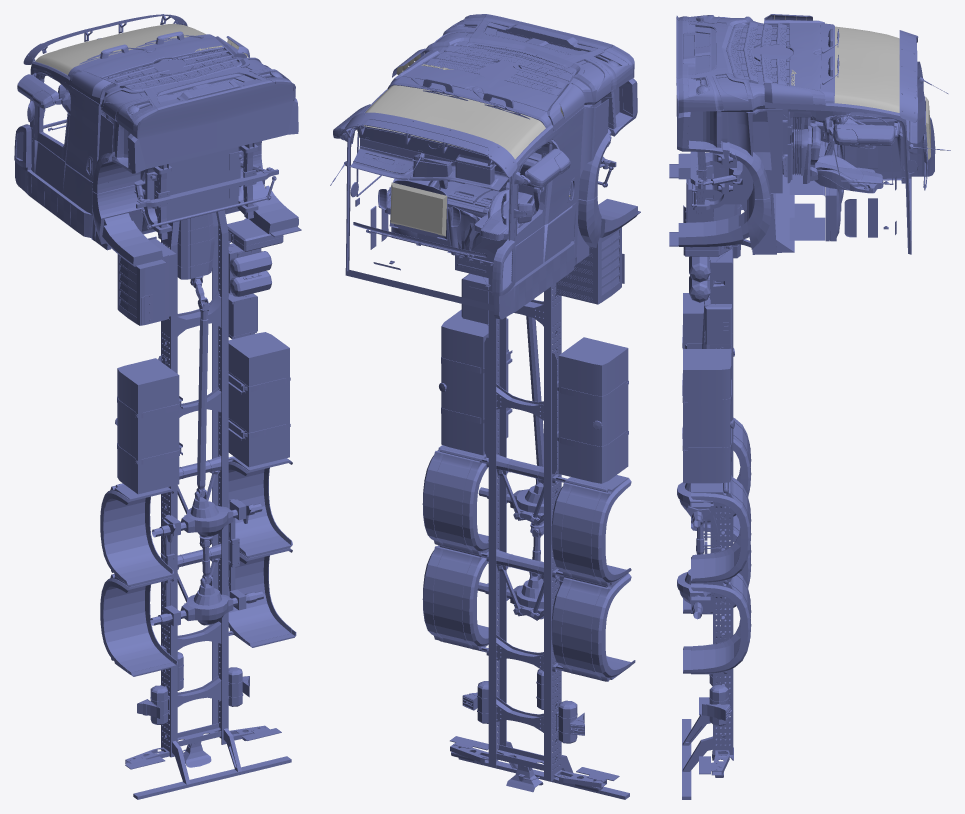
File: Mercedes Actros 2017_6848_autosaveデシメート50 _12296_autosave.glb
3 renders of one model, left to right at view 1: azimuth 30°, elevation 25°; view 2: azimuth 150°, elevation 25°; view 3: azimuth 270°, elevation 25°, orthographic. The views are drawn at different scales.
Visible parts, largest first — view 1: polySurface7063, pCube759, pCube760, polySurface7062, polySurface6996, polySurface6761, polySurface6348, pPlane1023, polySurface7025, polySurface7060, pCube478, pCube753 (+36 smaller); view 2: polySurface7063, polySurface7062, pCube759, polySurface6996, pCube760, polySurface7025, polySurface6320, pPlane417, pCube478, pPlane1087, polySurface7060, polySurface6319 (+38 smaller); view 3: polySurface7062, pCube760, polySurface6320, polySurface6996, pPlane548, pPlane231, polySurface6761, pCube926, pPlane1290, polySurface6245, pPlane71, polySurface6273 (+29 smaller).
Part boxes in pixels (x1,y1,x2,y2): polySurface7063: [100, 483, 177, 676]; pCube759: [115, 355, 182, 494]; pCube760: [218, 332, 290, 467]; polySurface7062: [228, 456, 296, 647]; polySurface6996: [212, 210, 228, 744]; polySurface6761: [134, 143, 278, 239]; polySurface6348: [134, 98, 217, 173]; pPlane1023: [217, 84, 298, 151]; polySurface7025: [161, 221, 179, 757]; polySurface7060: [117, 236, 176, 325]; pCube478: [32, 69, 113, 182]; pCube753: [140, 147, 238, 231]; polySurface7063: [551, 474, 635, 681]; polySurface7062: [422, 445, 497, 655]; pCube759: [552, 337, 628, 483]; polySurface6996: [488, 265, 506, 768]; pCube760: [439, 309, 512, 457]; polySurface7025: [544, 283, 561, 781]; polySurface6320: [352, 85, 545, 159]; pPlane417: [348, 126, 508, 190]; pCube478: [508, 99, 608, 245]; pPlane1087: [492, 239, 574, 319]; polySurface7060: [556, 227, 624, 304]; polySurface6319: [340, 112, 517, 177]; polySurface7062: [683, 475, 751, 674]; pCube760: [682, 345, 734, 483]; polySurface6320: [834, 26, 899, 112]; polySurface6996: [713, 204, 734, 754]; pPlane548: [787, 125, 883, 193]; pPlane231: [728, 109, 782, 193]; polySurface6761: [690, 151, 742, 216]; pCube926: [689, 247, 732, 304]; pPlane1290: [731, 25, 793, 84]; polySurface6245: [789, 23, 821, 90]; pPlane71: [677, 109, 727, 154]; polySurface6273: [782, 120, 904, 180].
Bounding box in the file's own units: 7.48 × 25.16 × 8.97.
